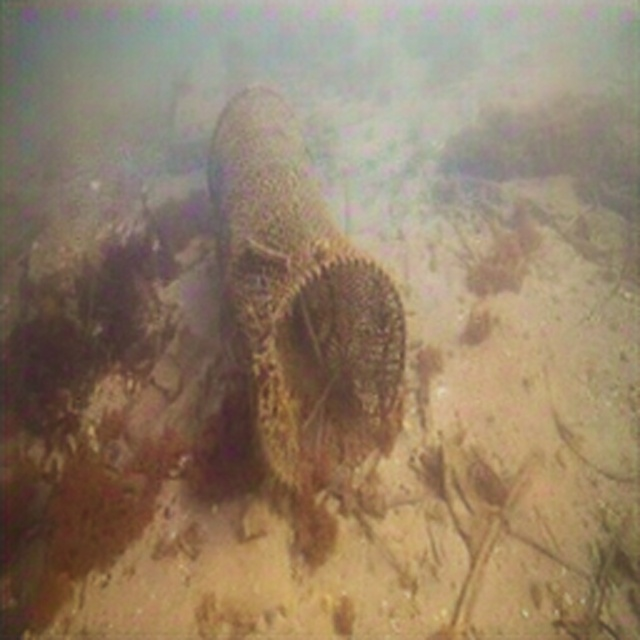mine: (204, 83, 406, 498)
